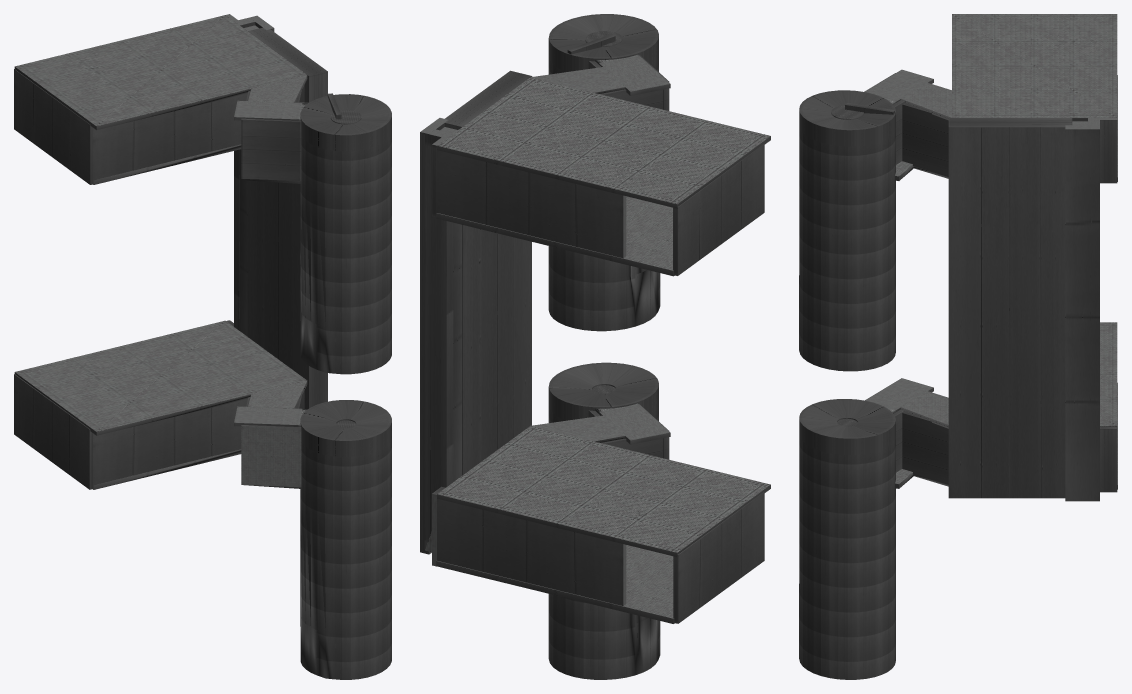
File: BasementMapStart1.fbx
3 views of the same model, side by side, from view 1: azimuth 30°, elevation 25°; view 2: azimuth 150°, elevation 25°; view 3: azimuth 270°, elevation 25° (orthographic). The views are drawn at different scales.
Parts seen in each view (by area): view 1: Cube__229__1_002, Cube__229__1_001, Cube__259__1, Cube__259__1_001, Cube__283__1, Cube__258__1, Cube__258__1_001, Cube__274__1, Cube__273__1, Cube__217__2, Cube__217__2_001, Cube__293__1 (+3 smaller); view 2: Cube__259__1, Cube__259__1_001, Cube__283__1, Cube__229__1_002, Cube__229__1_001, Cube__230__1, Cube__260__1, Cube__286__1, Cube__274__1, Cube__273__1, Cube__215__2_001, Cube__215__2 (+4 smaller); view 3: Cube__283__1, Cube__229__1_002, Cube__229__1_001, Cube__259__1, Cube__292__1, Cube__259__1_001, Cube__219__2, Cube__219__2_001, Cube__240__1, Cube__240__1_001.
Boxes of the visible parts, box(x1,y1,x2,y2) form: Cube__229__1_002: box(234, 400, 391, 679); Cube__229__1_001: box(234, 94, 391, 374); Cube__259__1: box(14, 15, 307, 129); Cube__259__1_001: box(14, 320, 307, 435); Cube__283__1: box(247, 27, 327, 408); Cube__258__1: box(92, 93, 247, 184); Cube__258__1_001: box(92, 399, 247, 489); Cube__274__1: box(14, 374, 92, 489); Cube__273__1: box(14, 69, 92, 184); Cube__217__2: box(241, 118, 301, 180); Cube__217__2_001: box(241, 425, 301, 487); Cube__293__1: box(239, 149, 247, 336); Cube__259__1: box(437, 67, 770, 207); Cube__259__1_001: box(437, 415, 770, 557); Cube__283__1: box(444, 70, 532, 475); Cube__229__1_002: box(548, 362, 670, 679); Cube__229__1_001: box(548, 14, 670, 331); Cube__230__1: box(437, 150, 626, 258); Cube__260__1: box(437, 498, 626, 605); Cube__286__1: box(424, 129, 453, 551); Cube__274__1: box(673, 492, 764, 623); Cube__273__1: box(673, 144, 764, 275); Cube__215__2_001: box(436, 545, 674, 623); Cube__215__2: box(436, 196, 674, 276); Cube__283__1: box(948, 118, 1072, 498); Cube__229__1_002: box(799, 378, 933, 679); Cube__229__1_001: box(799, 69, 933, 371); Cube__259__1: box(901, 14, 1117, 121); Cube__292__1: box(1065, 125, 1099, 501); Cube__259__1_001: box(901, 322, 1117, 428); Cube__219__2: box(902, 103, 948, 176); Cube__219__2_001: box(902, 411, 948, 484); Cube__240__1: box(1100, 118, 1117, 183); Cube__240__1_001: box(1100, 427, 1117, 492).
Bounding box in the file's own units: 3551 × 7792 × 4058.
